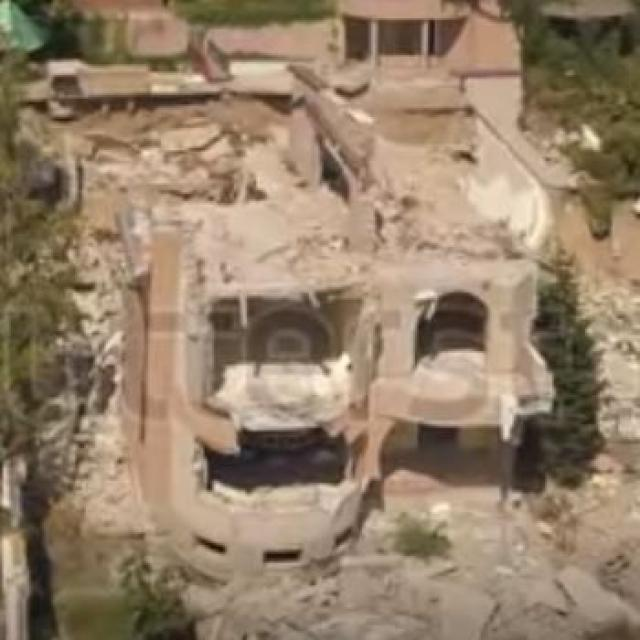collapsed_building: (137, 170, 549, 563)
